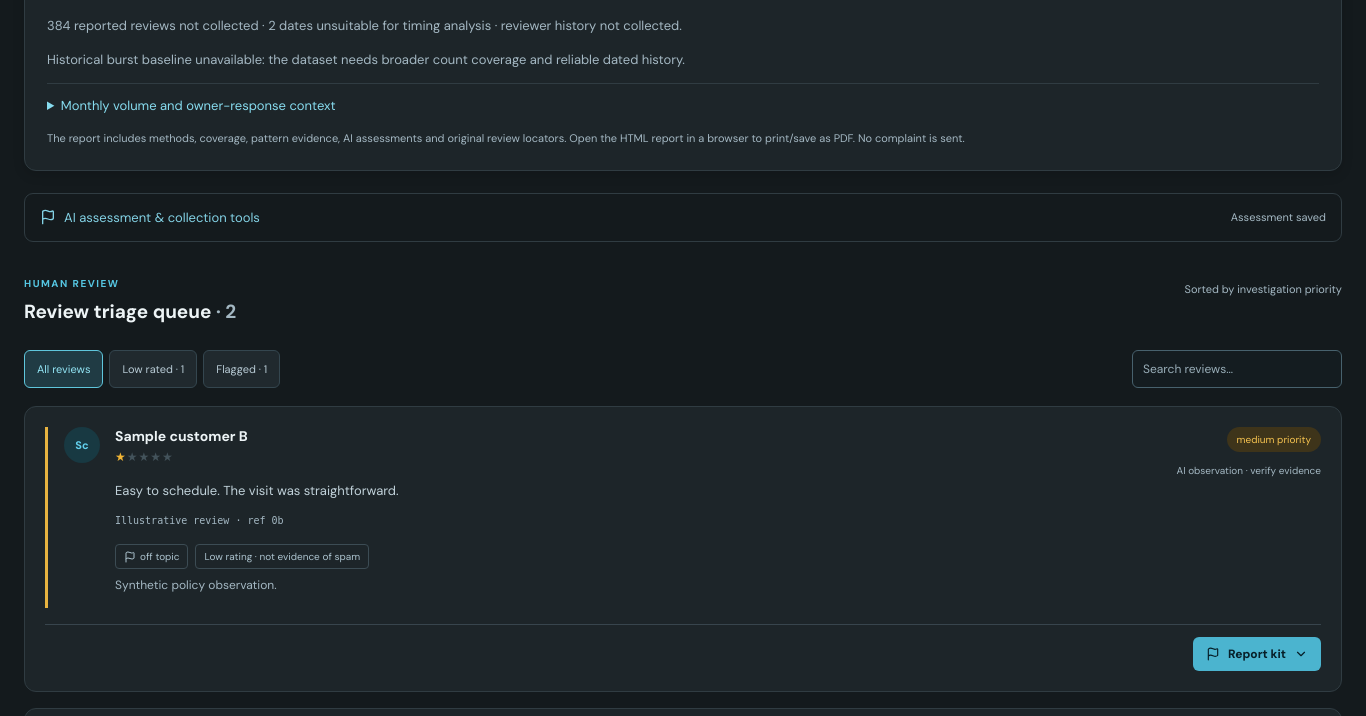
Test: evidence-backed reputation dashboards › uses saved AI findings for flags and exposes the corresponding report kit
(page scrolled)
Click the button "Flagged · 1". click: (242, 369)
box: x1=203 y1=350 x2=280 y2=388
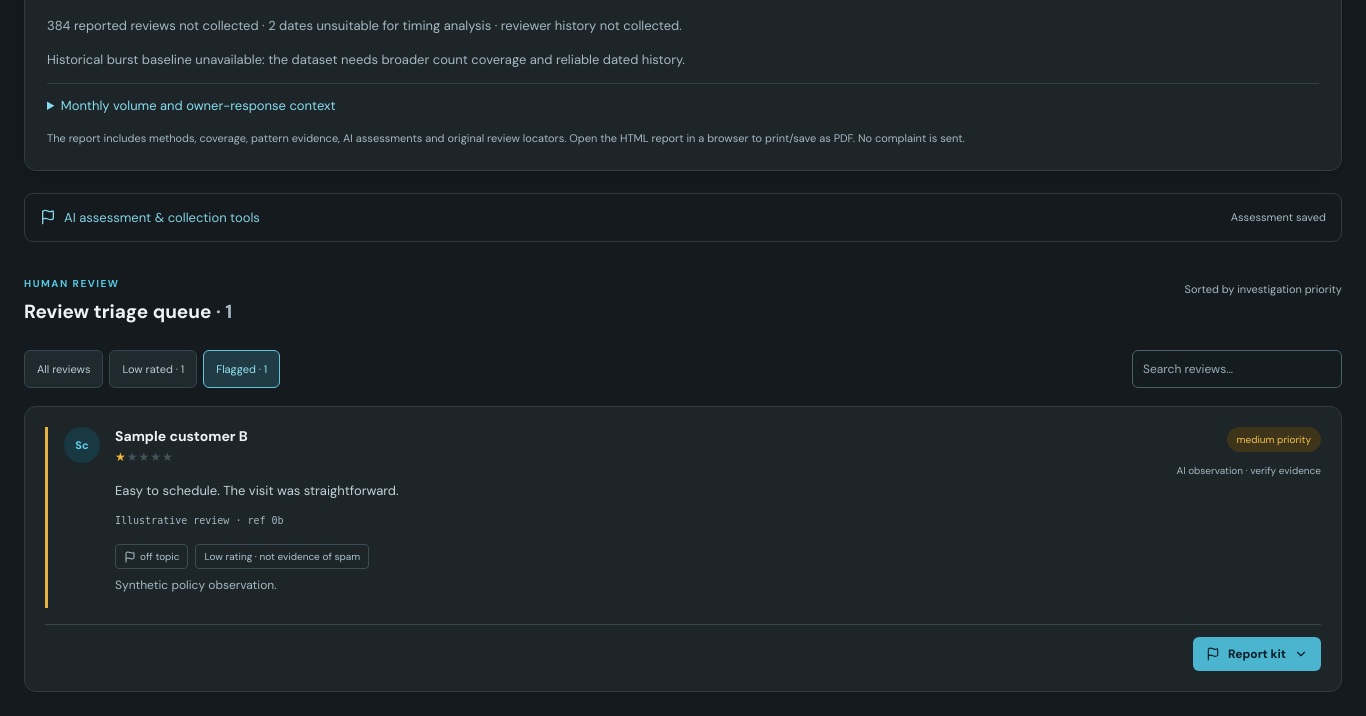
Expected: the text "medium priority" is shown, x1=1227 y1=427 x2=1321 y2=452
Click the heading named "Report kit for Sample customer B". click: (1257, 654)
box: x1=1193 y1=637 x2=1321 y2=671
(page scrolled)
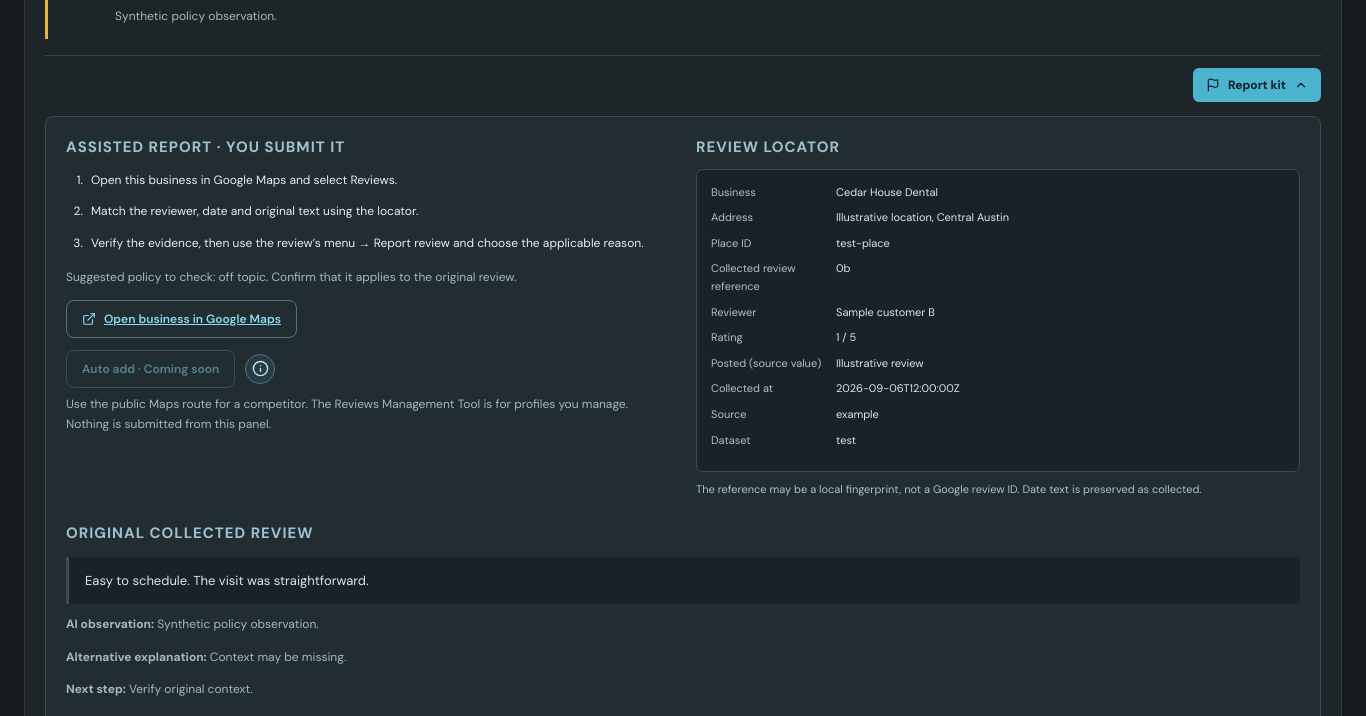
Now the button "Auto add · Coming soon" is disabled, box x1=66 y1=350 x2=235 y2=388
